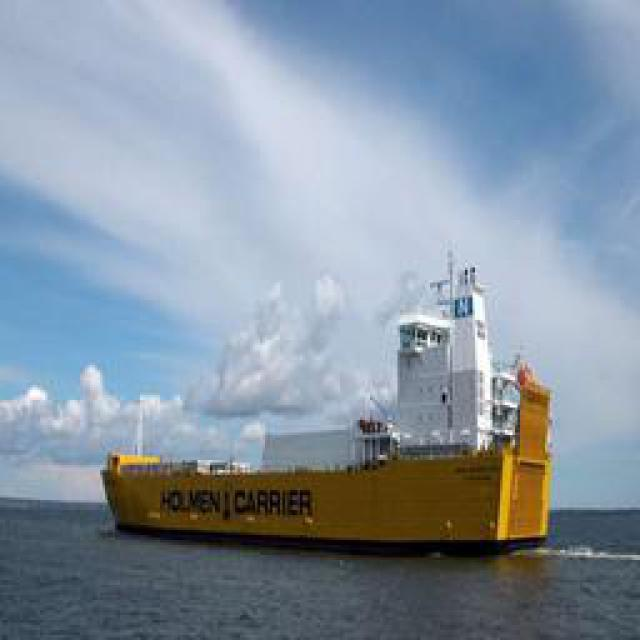Ship: (106, 236, 554, 551)
